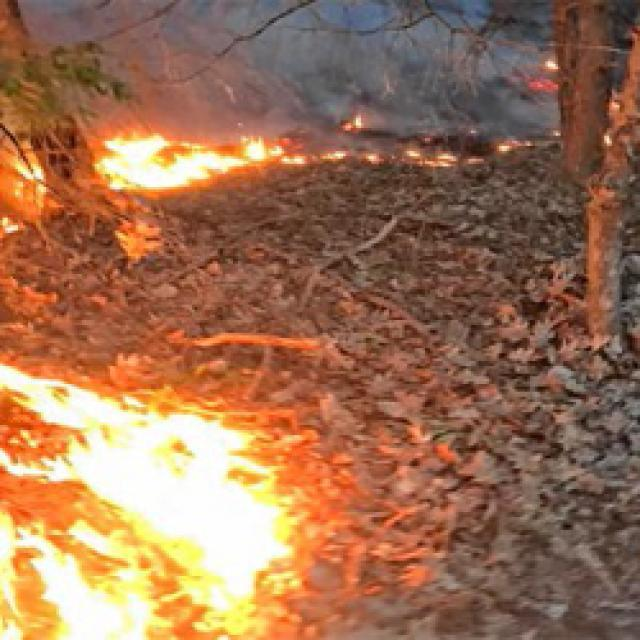Fire: (0, 318, 319, 640), (91, 126, 248, 198), (1, 163, 48, 242), (363, 145, 457, 172), (111, 214, 164, 260), (242, 129, 304, 164), (464, 141, 529, 165), (336, 109, 369, 132), (316, 146, 346, 163)
Smoke: (22, 0, 564, 133)
